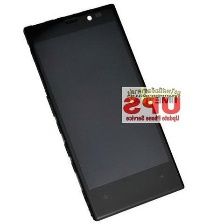phone: (19, 0, 187, 224)
